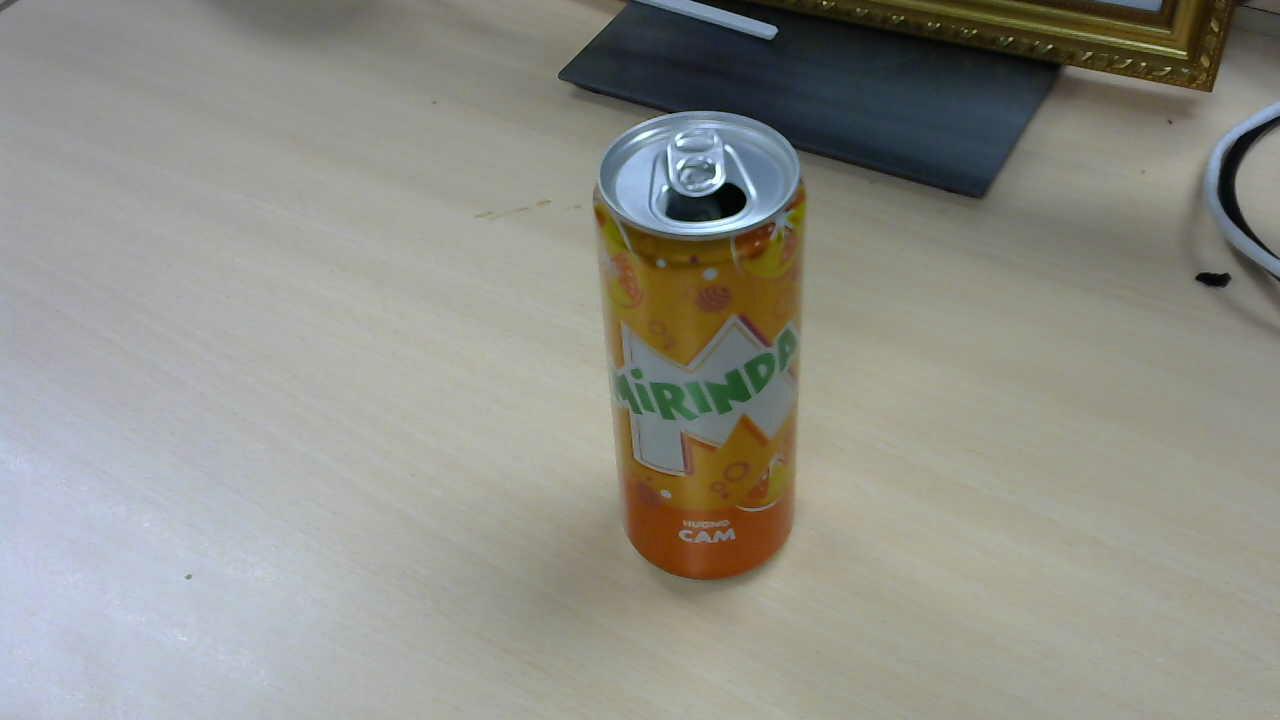Mirinda: (598, 115, 812, 588)
